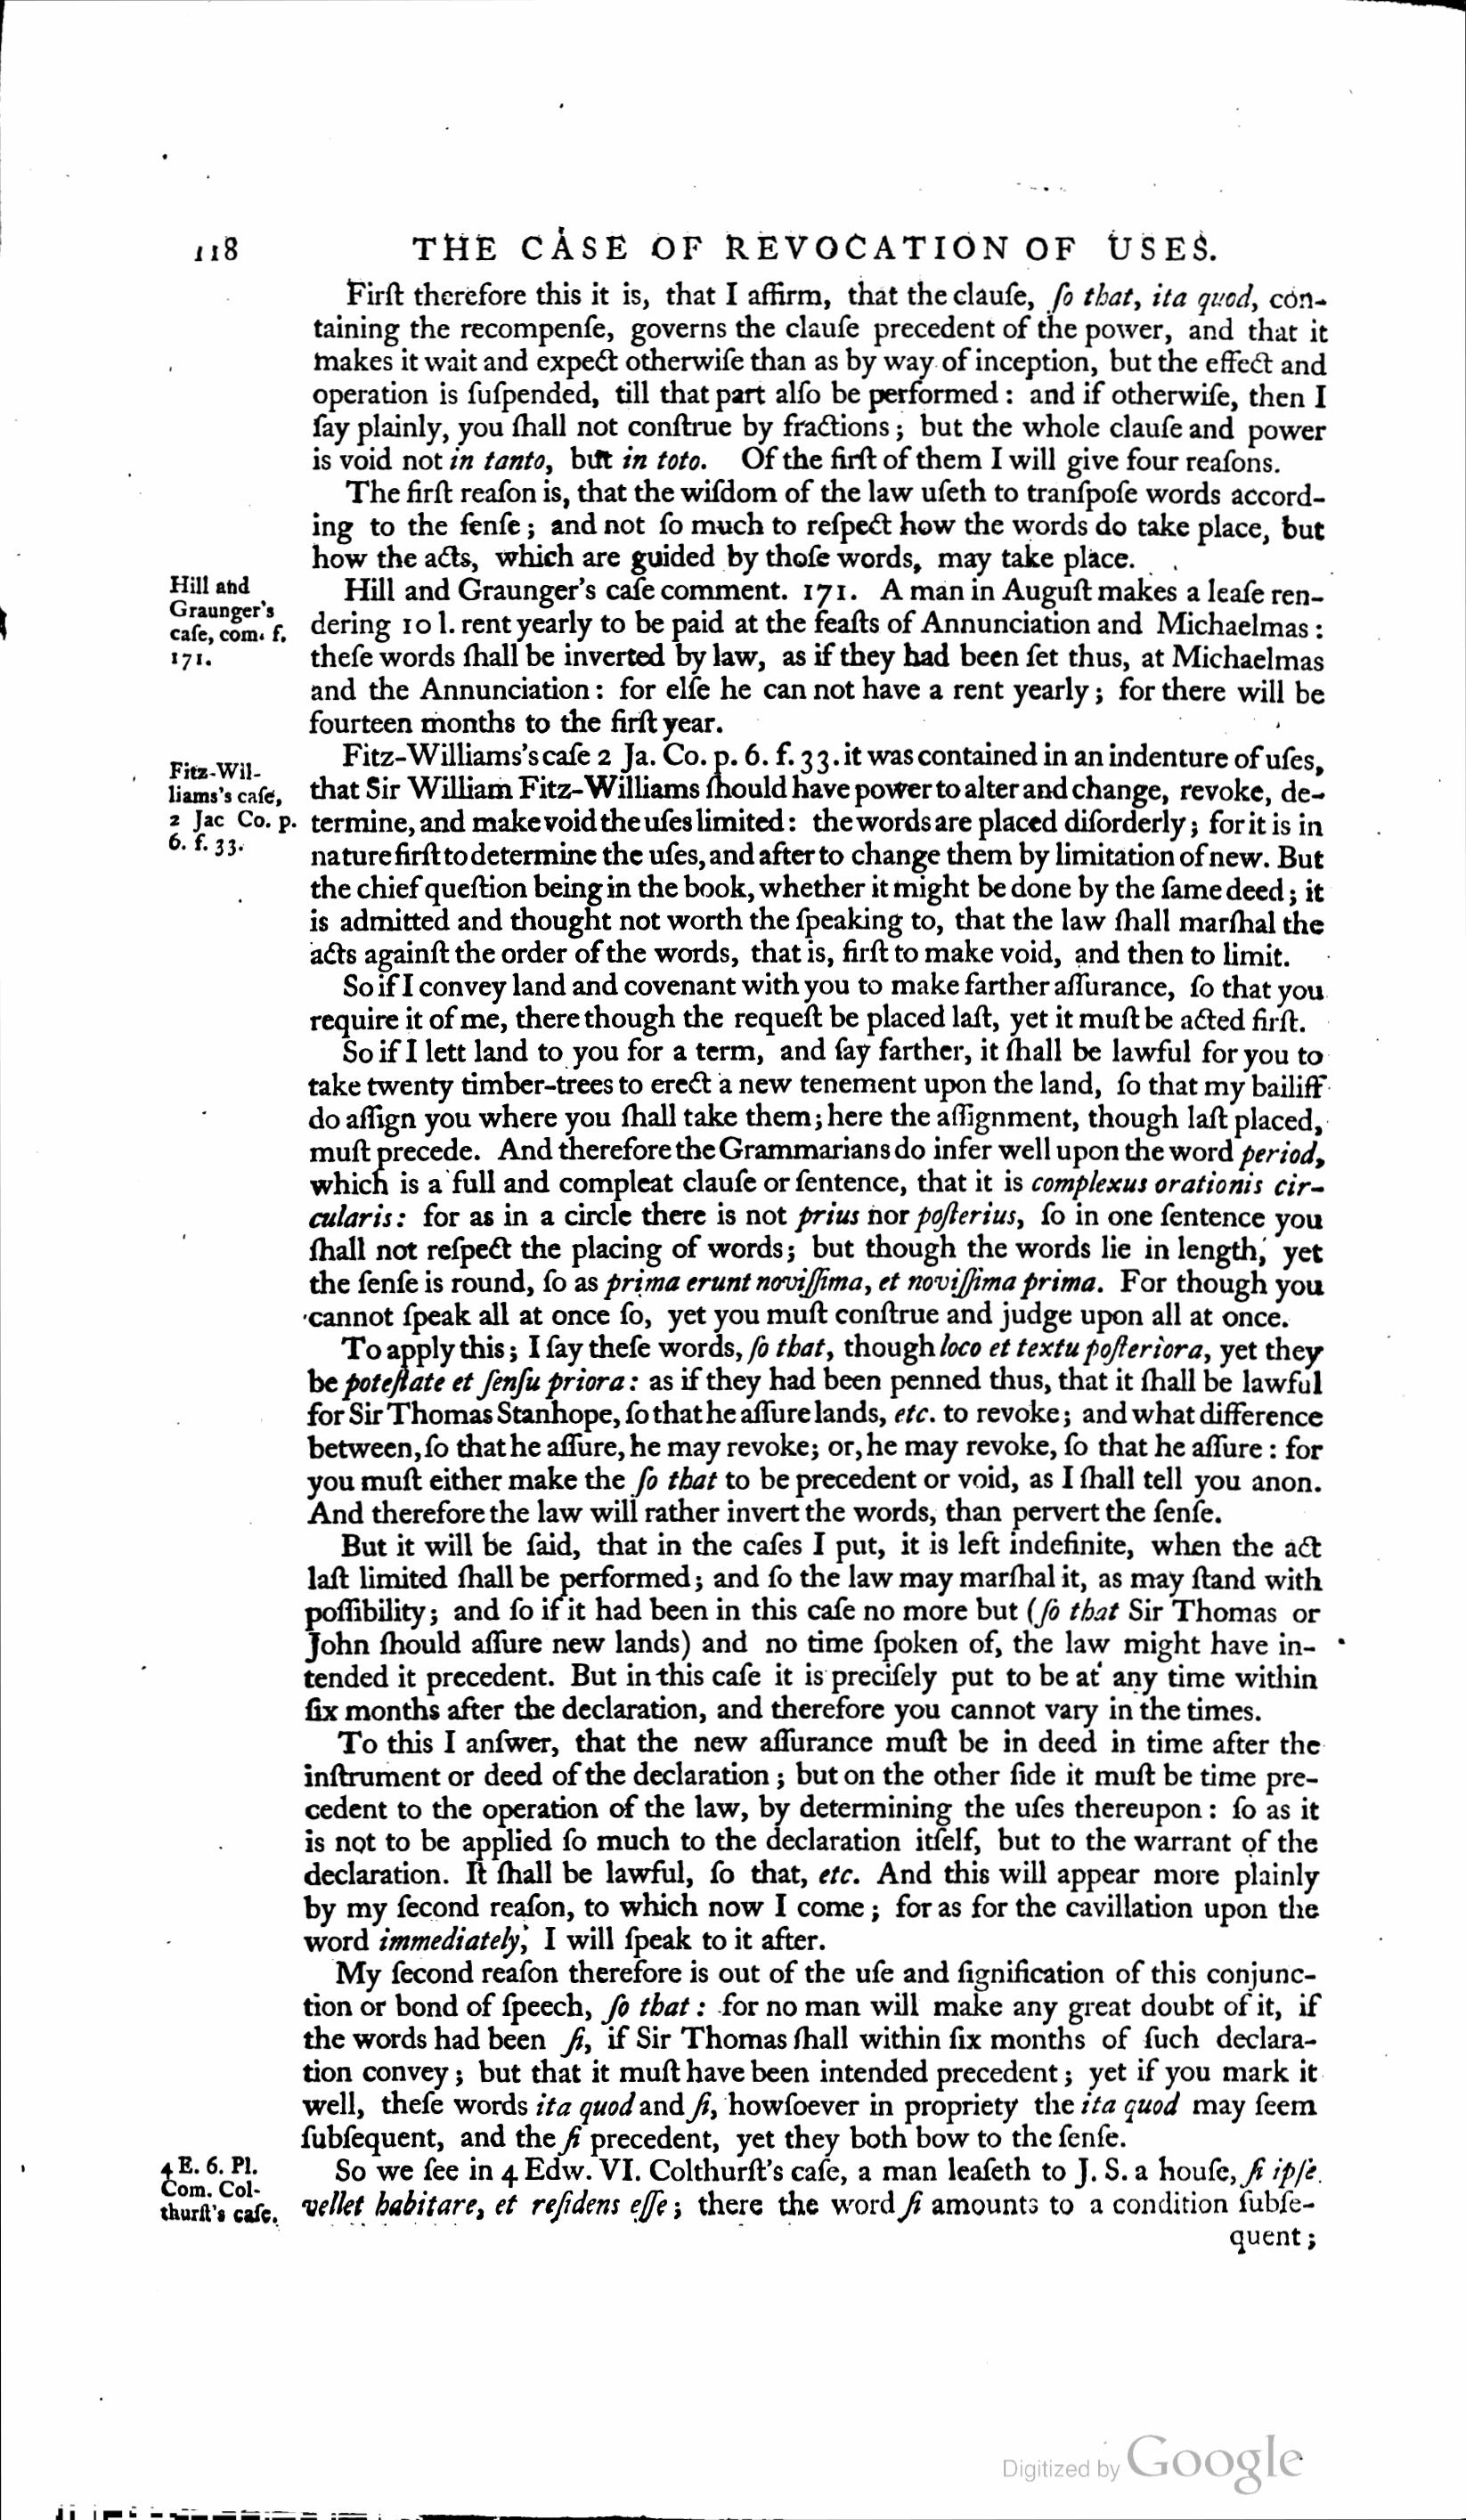catchword: (1229, 2227, 1316, 2257)
full_p: (305, 1039, 1330, 1336), (305, 736, 1326, 968), (305, 1725, 1325, 1957), (309, 274, 1330, 481), (304, 1948, 1325, 2156), (305, 1332, 1330, 1535), (309, 1531, 1321, 1728), (305, 572, 1330, 739), (309, 481, 1326, 576), (305, 968, 1330, 1041)
header: (407, 225, 1220, 267)
page_num: (190, 228, 243, 267)
print_marg: (161, 567, 291, 677), (161, 753, 293, 862), (154, 2149, 284, 2229)
top_p: (304, 2152, 1321, 2220)
